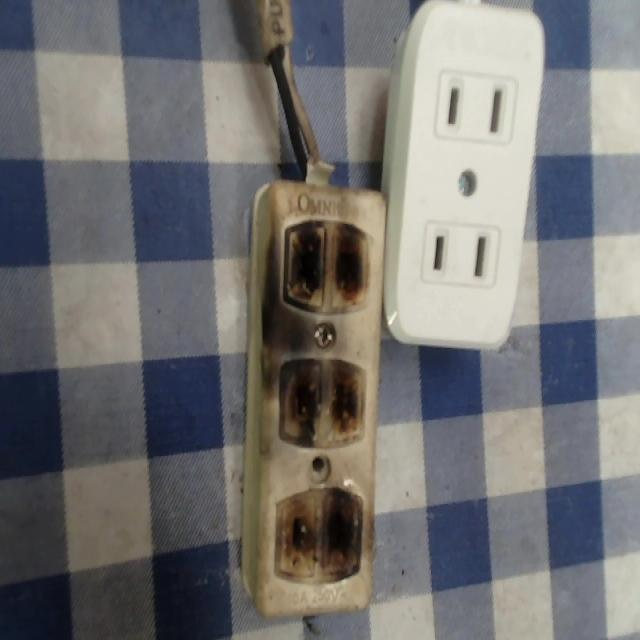-: (271, 481, 368, 583), (273, 351, 367, 449), (279, 215, 372, 312)
